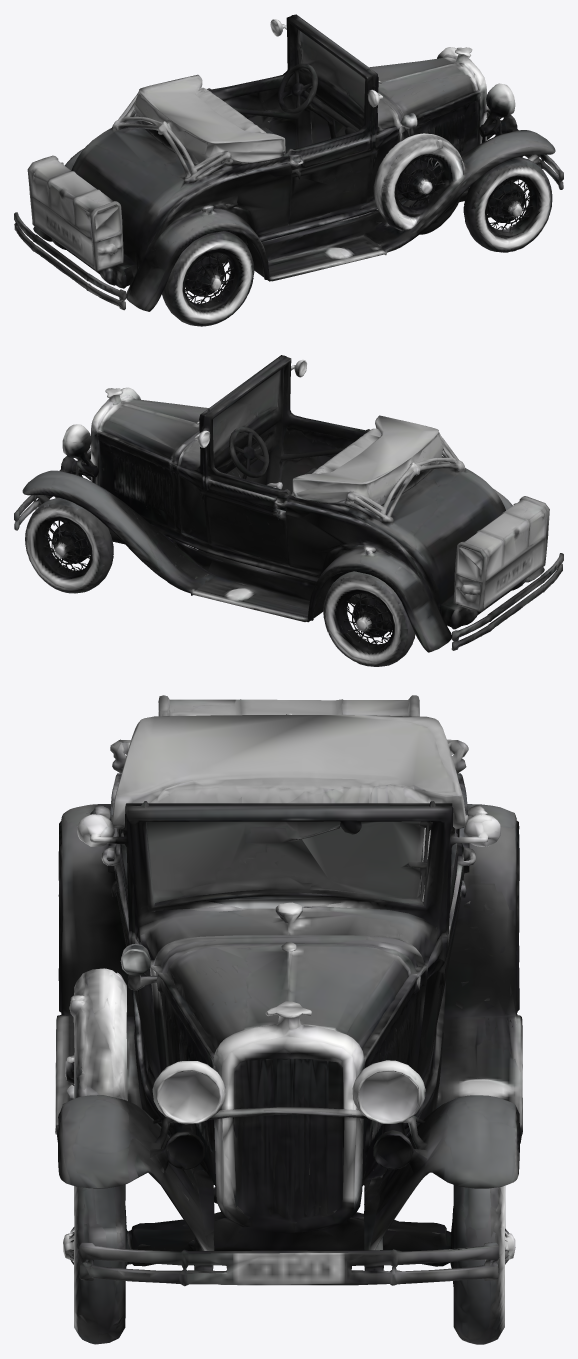
The model's file is black car.glb.
The picture shows the model from 3 angles, top to bottom: view 1: azimuth 30°, elevation 25°; view 2: azimuth 150°, elevation 25°; view 3: azimuth 270°, elevation 25°; orthographic projection. The views are drawn at different scales.
Parts seen in each view (by area): view 1: node_0; view 2: node_0; view 3: node_0.
Boxes of the visible parts, x1,y1,x2,y2 form: node_0: [14, 14, 563, 326]; node_0: [14, 355, 563, 666]; node_0: [55, 695, 522, 1344].
Bounding box in the file's own units: 1.12 × 0.4769 × 0.4933.
Materials: 1 (1 with a texture image).
